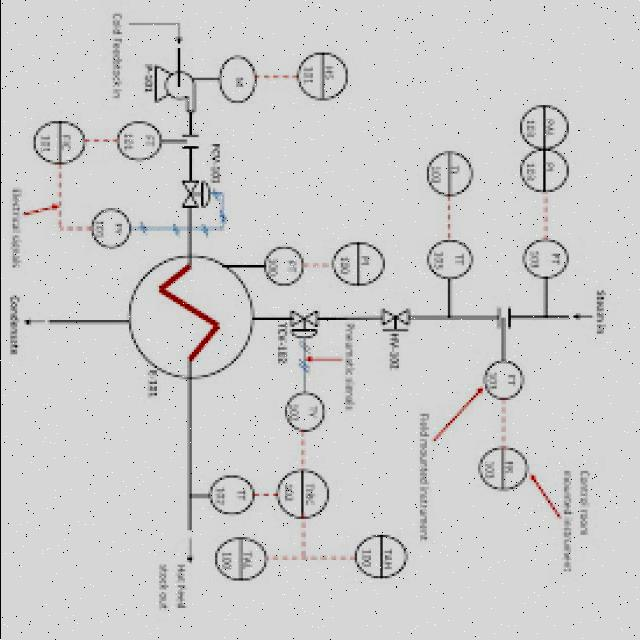Centrifugal Pump: (150, 62, 200, 120)
Hand Operated Gate Valve: (378, 304, 414, 336)
Pneumatic-Diaphragm Gate Valve: (284, 303, 322, 341), (178, 171, 212, 211)
